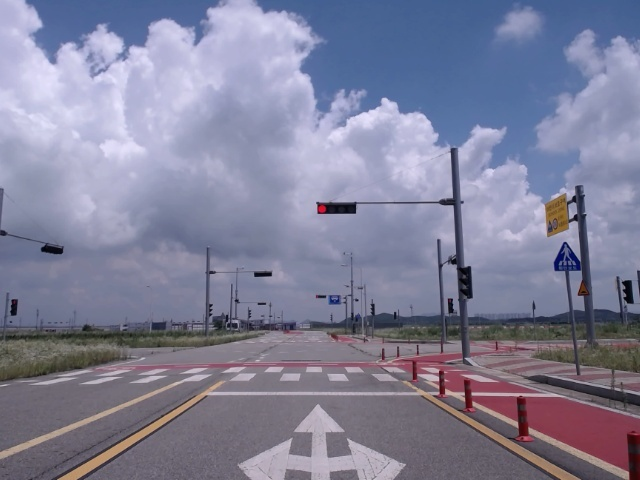red_4: (317, 203, 356, 215)
